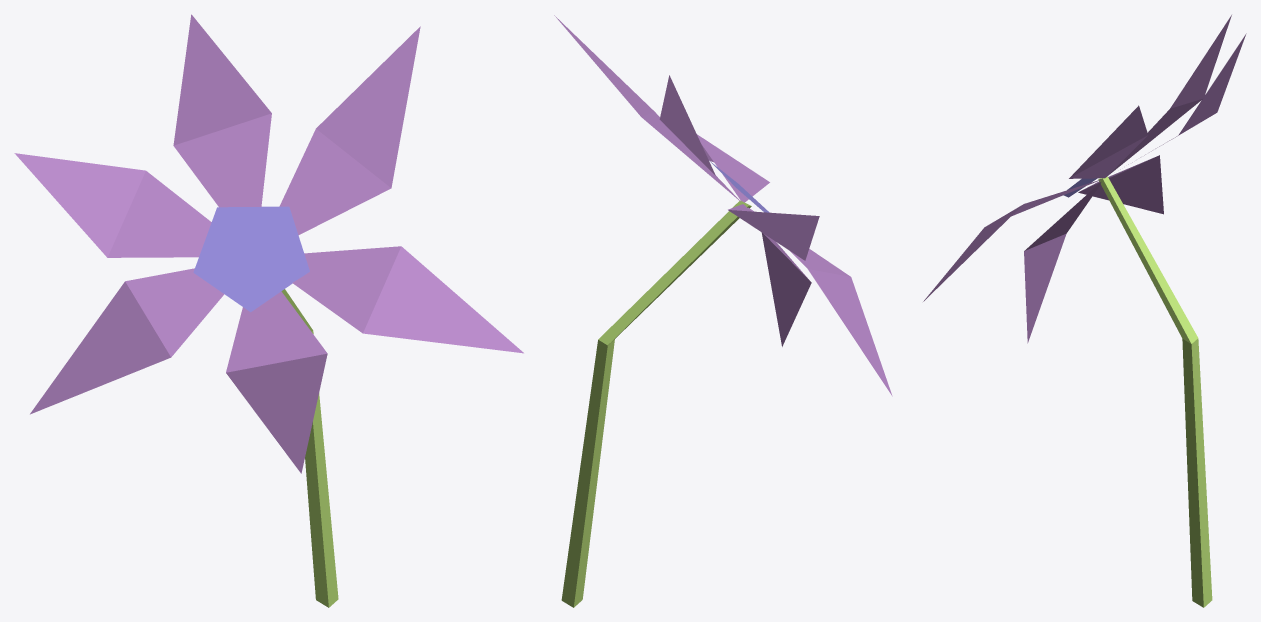
The model's file is Flower_b_OneS_05.fbx.
3 views of the same model, side by side, from view 1: azimuth 30°, elevation 25°; view 2: azimuth 150°, elevation 25°; view 3: azimuth 270°, elevation 25° (orthographic). The views are drawn at different scales.
Visible parts, largest first — view 1: Flower_b_OneS_05; view 2: Flower_b_OneS_05; view 3: Flower_b_OneS_05.
Boxes of the visible parts, x1,y1,x2,y2 form: Flower_b_OneS_05: (14,14,523,607); Flower_b_OneS_05: (554,15,892,607); Flower_b_OneS_05: (923,15,1246,607).
Size of the model in its own units: 0.2991 by 0.4589 by 0.2519.
